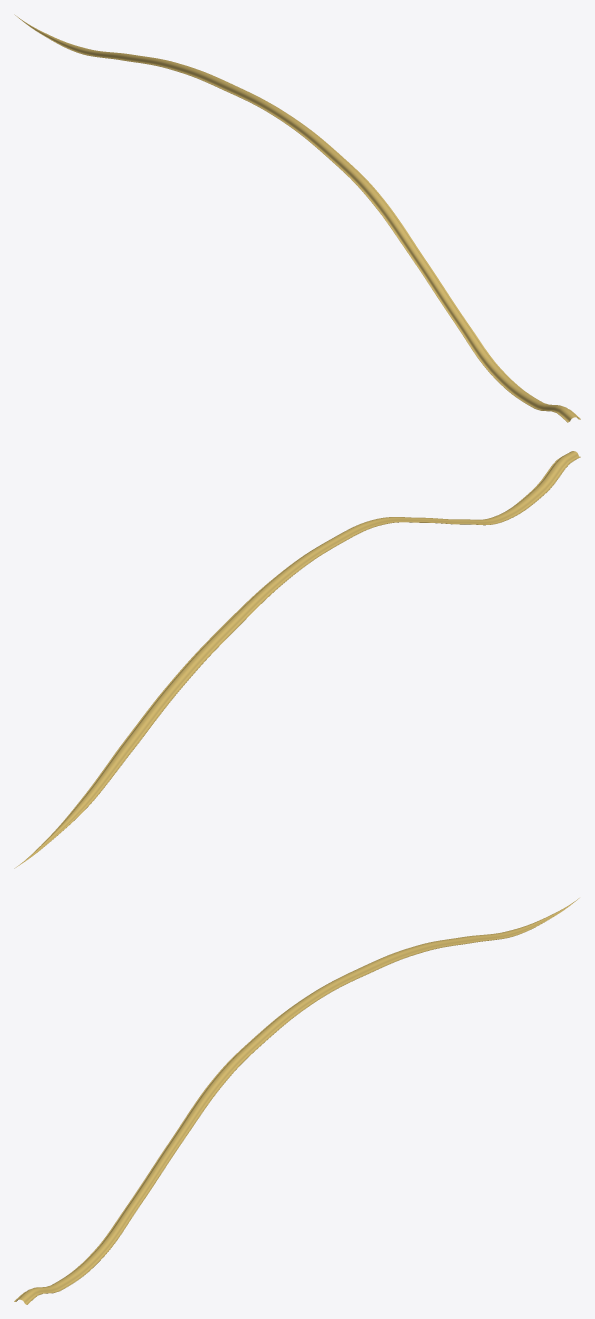
3 views of the same model, one above another, from view 1: azimuth 30°, elevation 25°; view 2: azimuth 150°, elevation 25°; view 3: azimuth 330°, elevation 25° (orthographic).
Parts seen in each view (by area): view 1: 前固有束; view 2: 前固有束; view 3: 前固有束.
Part boxes in pixels (x1,y1,x2,y2): 前固有束: [14, 14, 580, 422]; 前固有束: [14, 451, 580, 868]; 前固有束: [14, 898, 579, 1304].
Size of the model in its own units: 0.01 by 0.077 by 0.7212.
